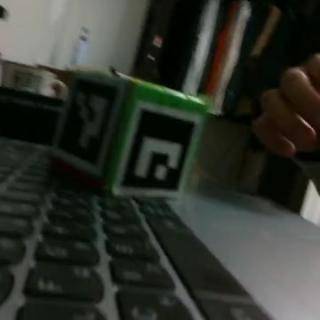armor: (112, 102, 201, 199), (51, 73, 130, 172)
robot: (48, 71, 208, 202)
